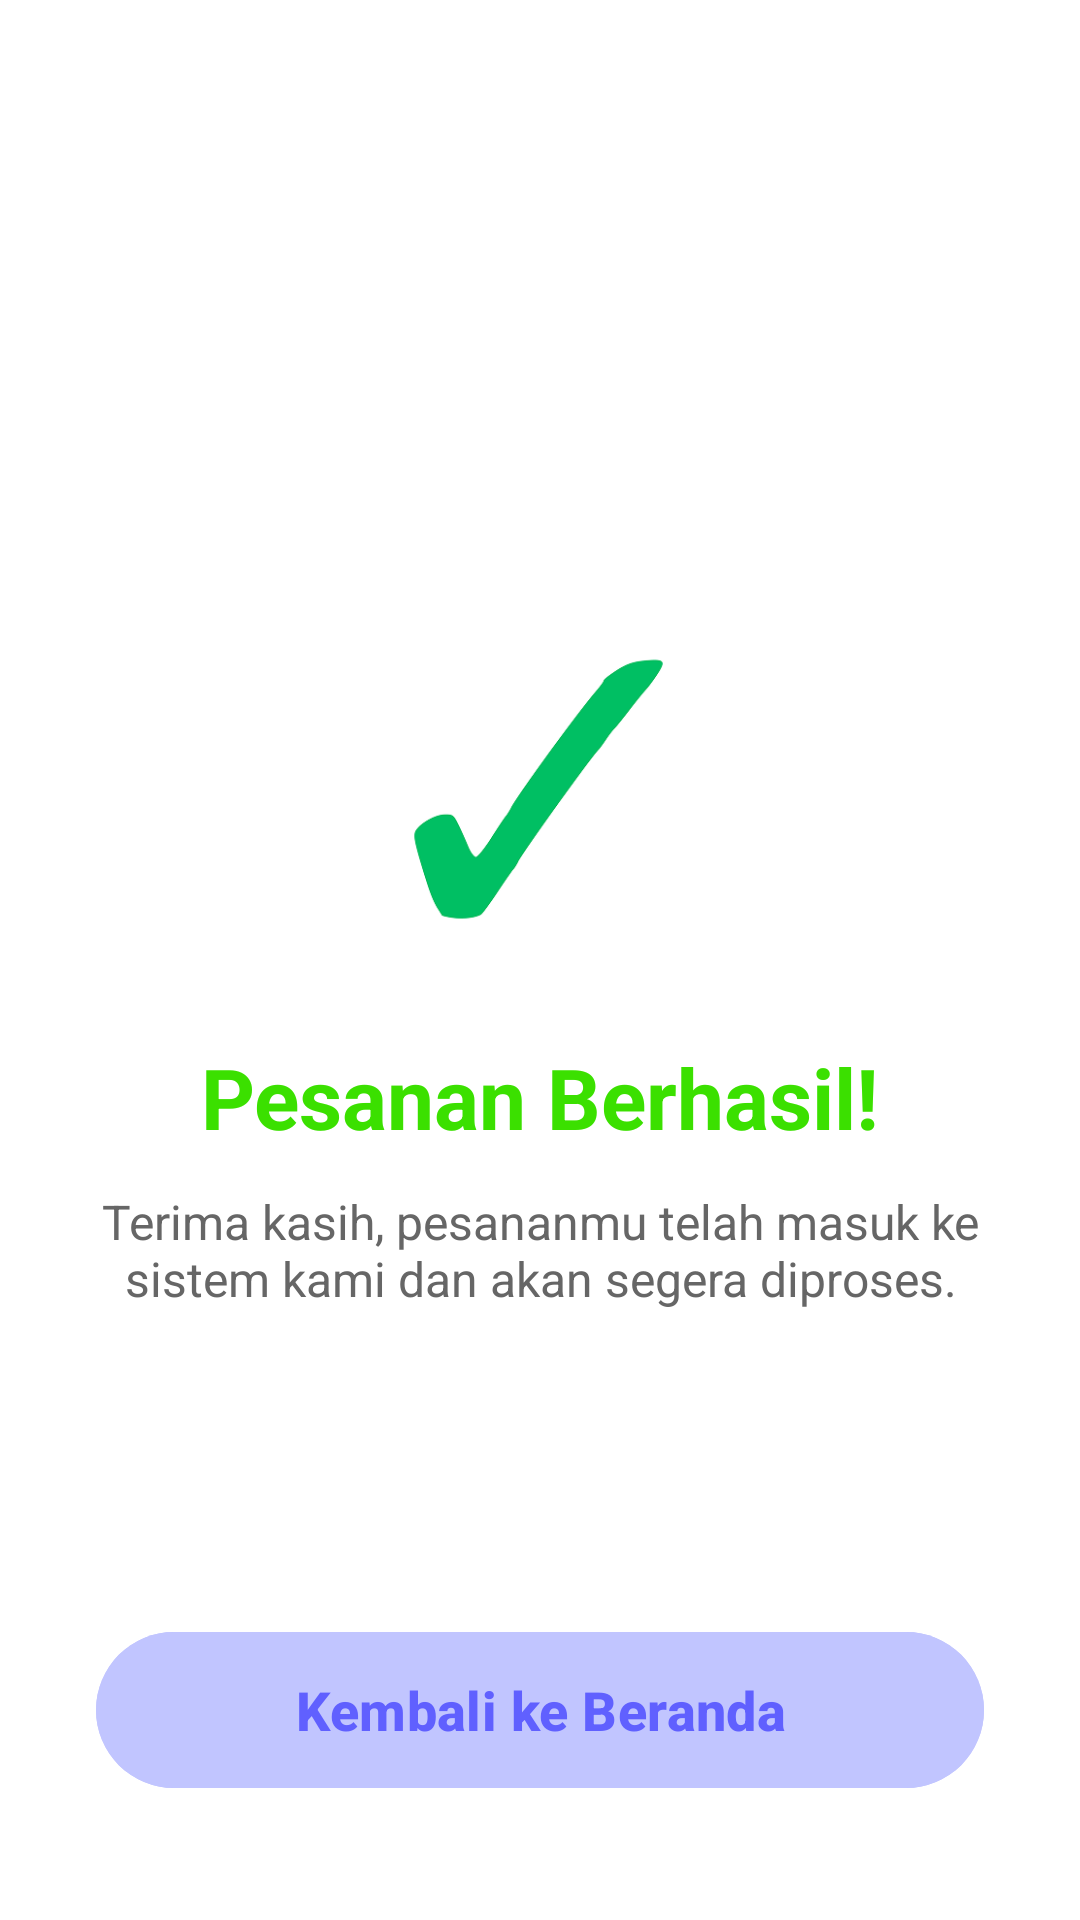

Where icons sit on this 1080×1920 app screen, as {"x1": x1, "y1": y1, "x2": x2, "y2": y2}:
done: {"x1": 414, "y1": 659, "x2": 663, "y2": 919}
